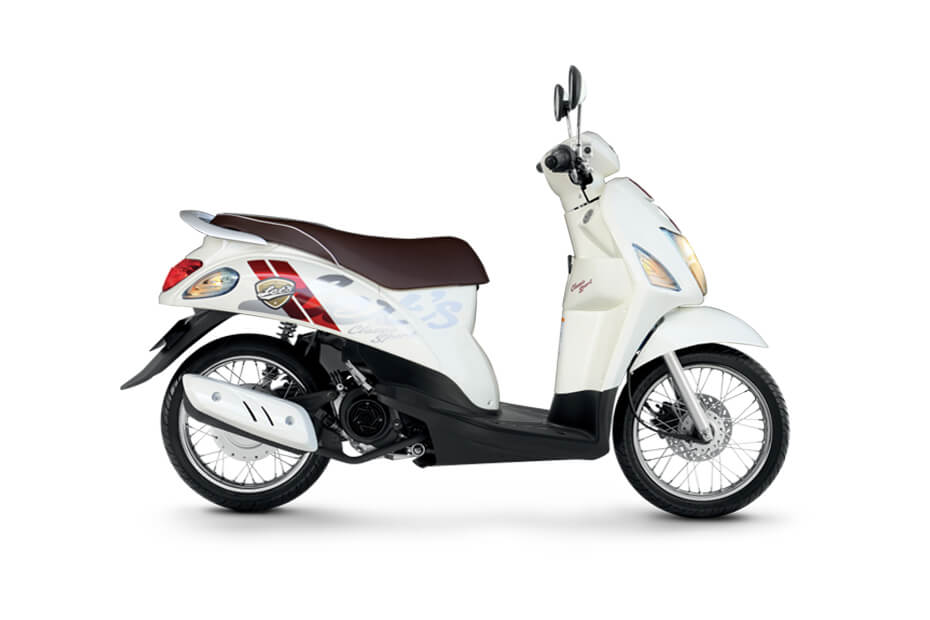motorcycle: (152, 128, 790, 518)
